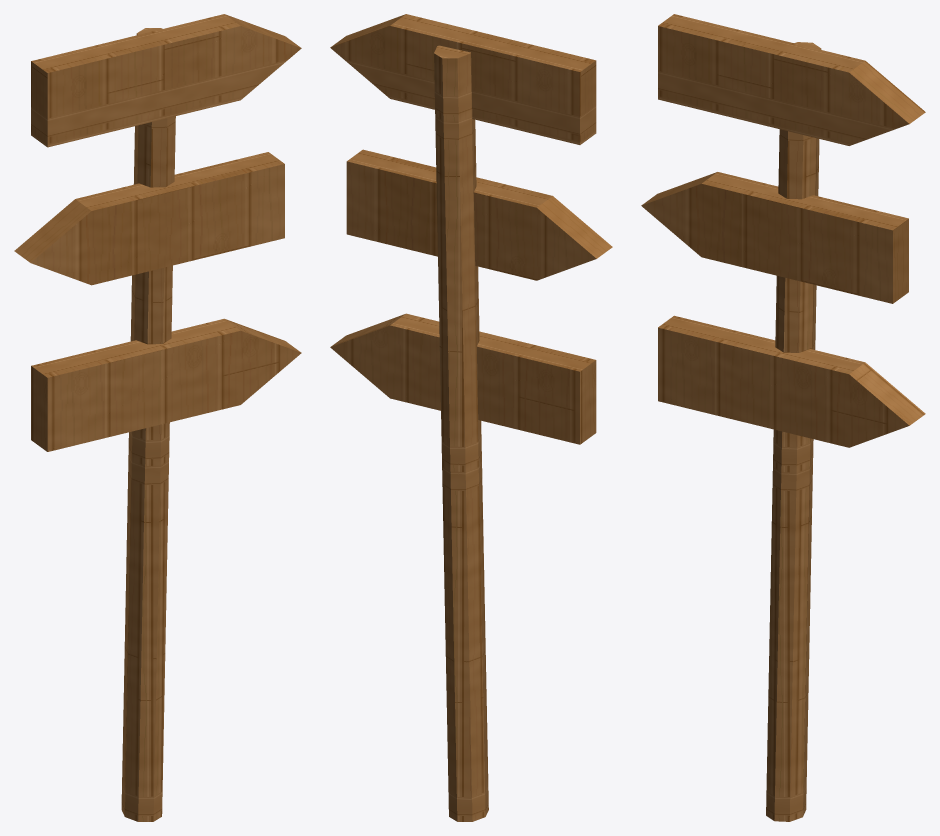
The model's file is Furn_Signpost.fbx.
3 renders of one model, left to right at view 1: azimuth 30°, elevation 25°; view 2: azimuth 150°, elevation 25°; view 3: azimuth 330°, elevation 25°, orthographic.
Parts seen in each view (by area): view 1: Furn_Signpost_Mesh; view 2: Furn_Signpost_Mesh; view 3: Furn_Signpost_Mesh.
Boxes of the visible parts, x1,y1,x2,y2 form: Furn_Signpost_Mesh: (14,14,301,821); Furn_Signpost_Mesh: (330,14,612,821); Furn_Signpost_Mesh: (641,14,925,821).
Bounding box in the file's own units: 0.8 × 2.2 × 0.15.
1 material, 1 textured.
